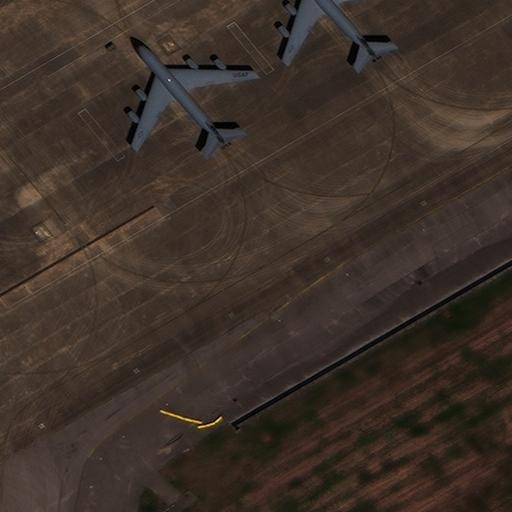Military Transport: (129, 41, 253, 146), (280, 0, 397, 59)
